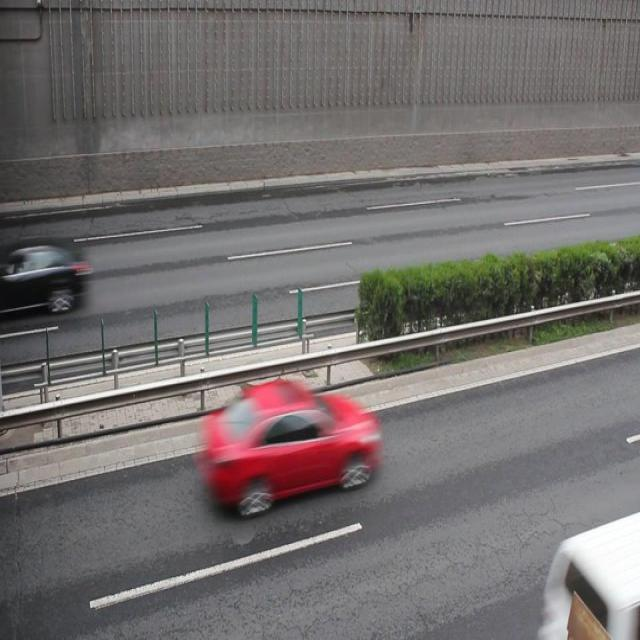car: (198, 374, 378, 516)
truck: (538, 511, 640, 640)
